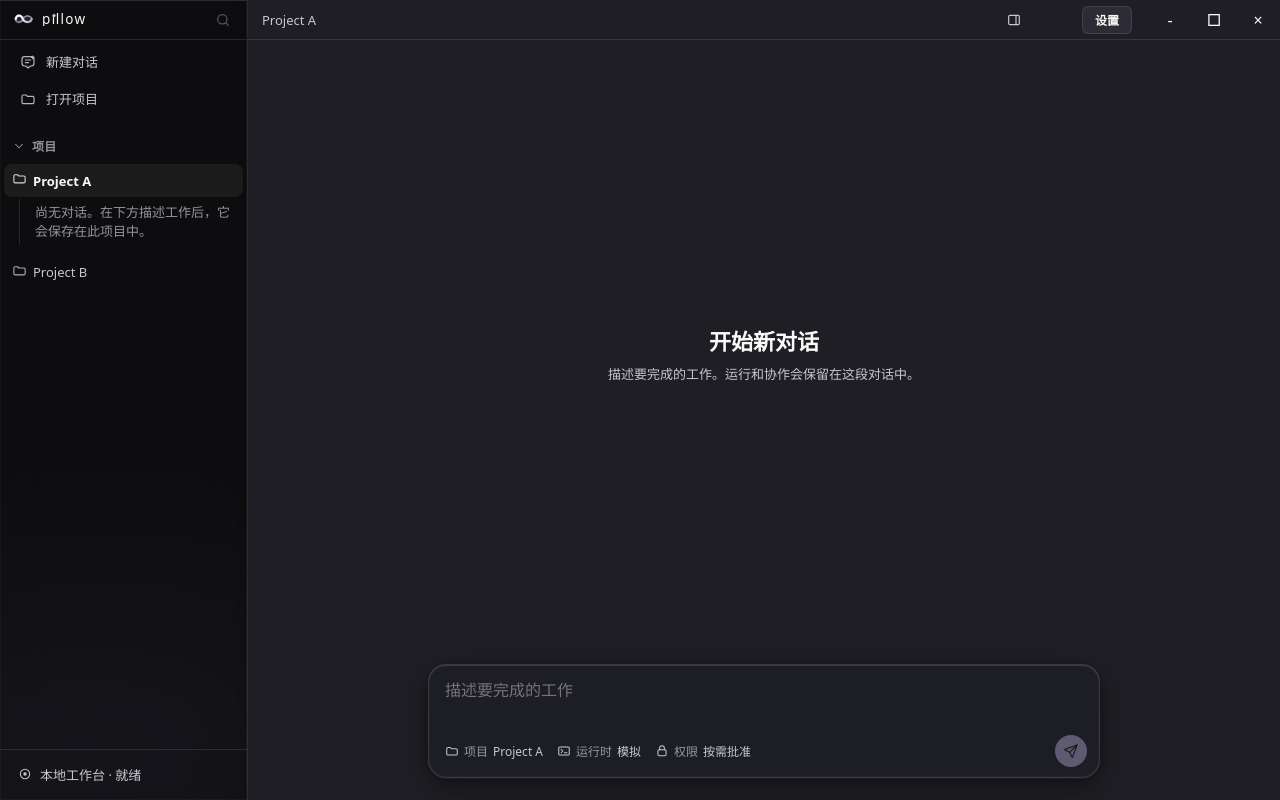
Test case: resource workbench integration (C2-D) › clears a pending project-A preview before project B can render it
Expected: the heading "Project A" is shown, [262,10,316,28]
Click the button with test id "resource-toggle".
click(1014, 20)  # box [1000,6,1028,34]
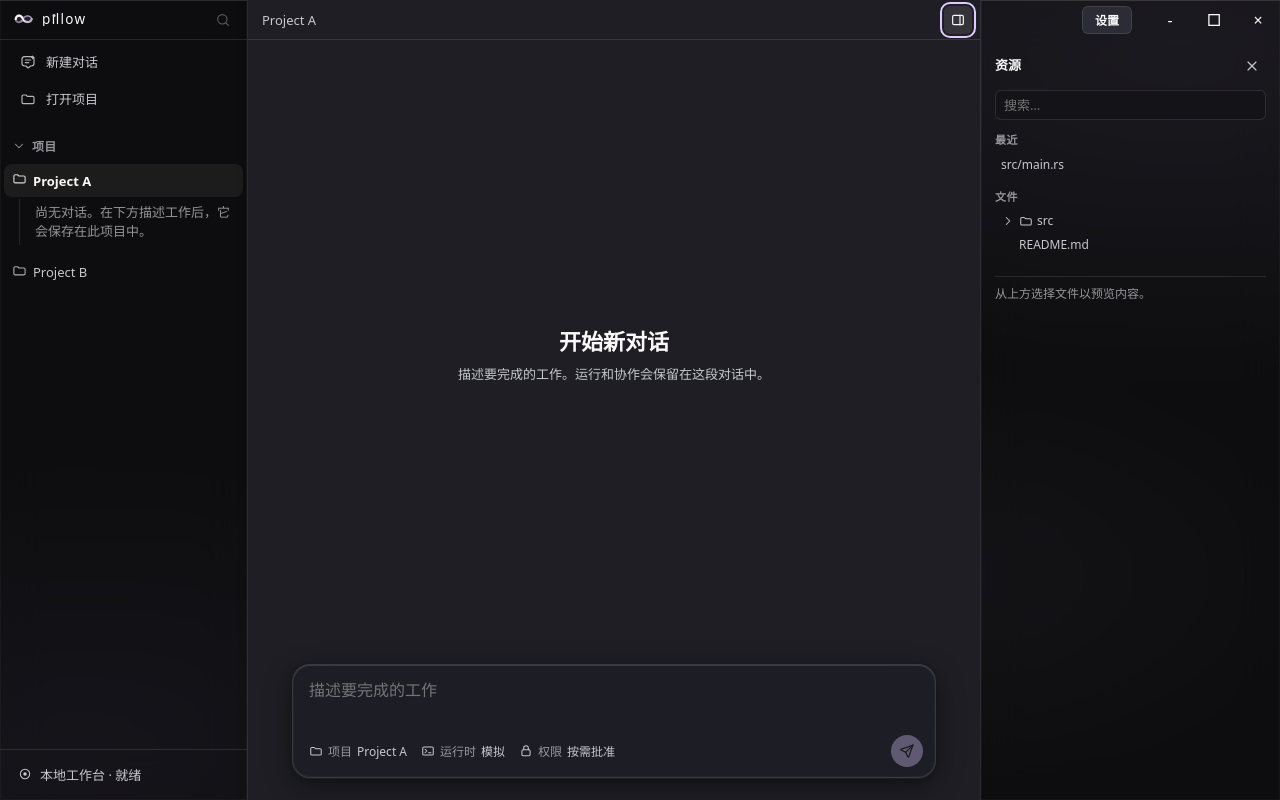
Expected: the button "src/main.rs" is shown
Click the button "src/main.rs".
click(1033, 164)  # box [995,152,1266,177]
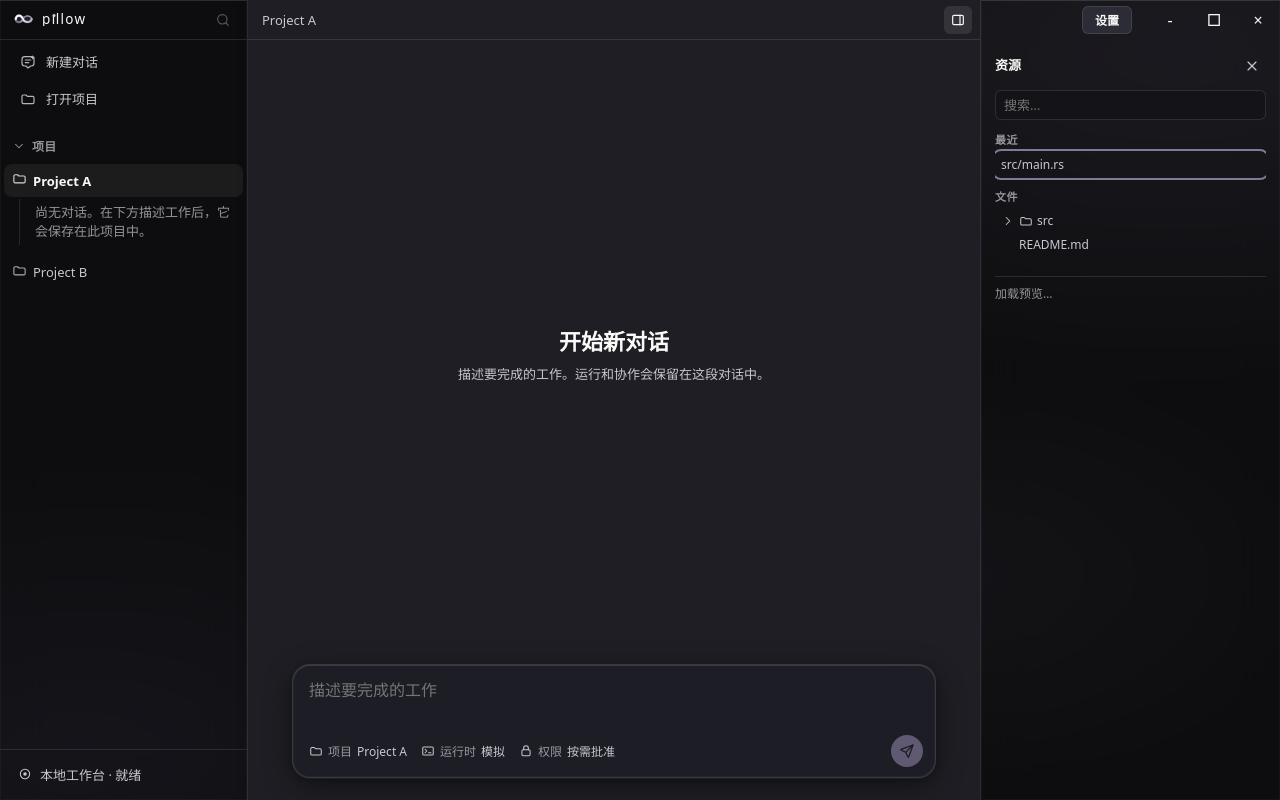
# Switch project while A preview is pending.
Click the button "Project B".
click(124, 272)  # box [4,256,243,289]
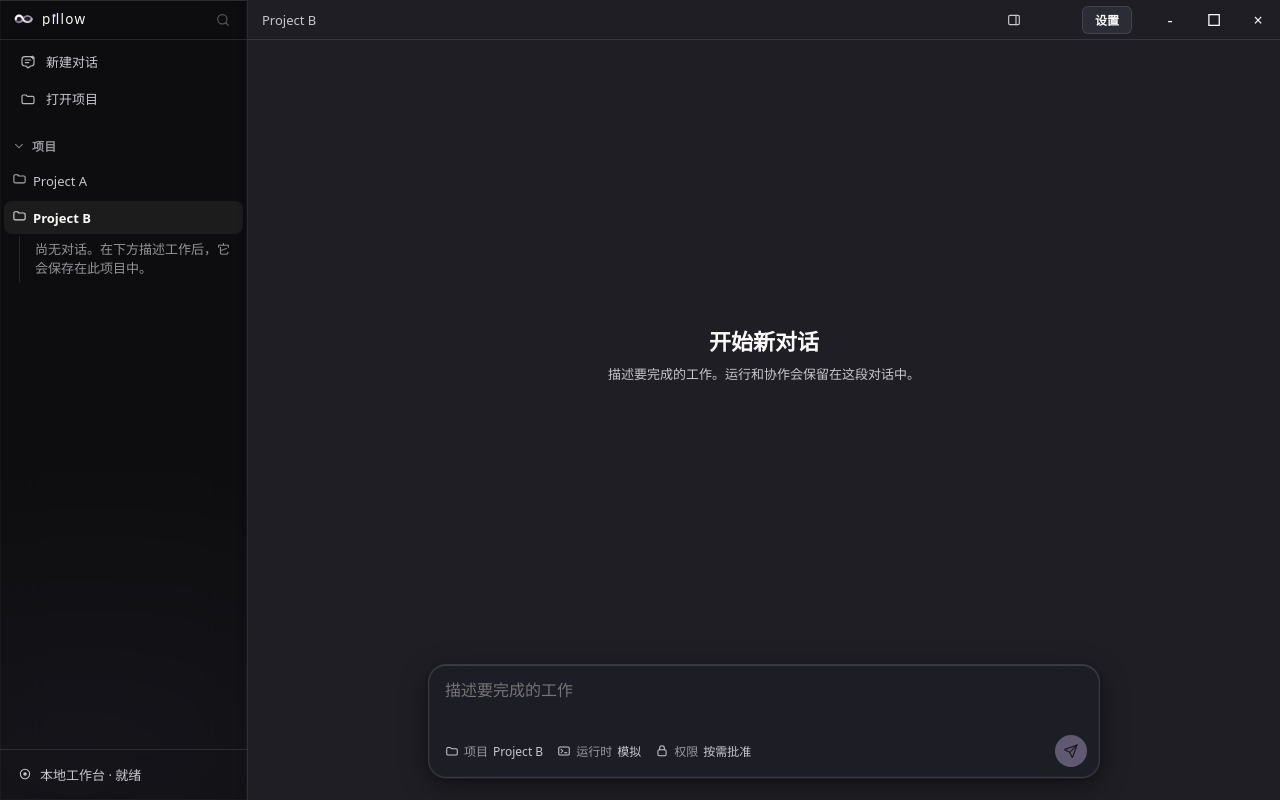
Expected: the heading with test id "active-project-name" reads "Project B", [262,10,316,28]
